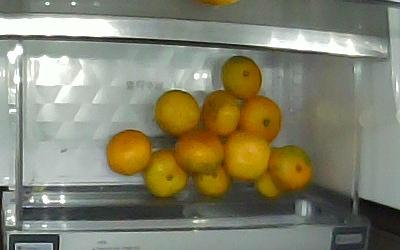tangerine: (225, 133, 272, 183), (175, 131, 225, 175), (106, 129, 151, 176), (144, 150, 188, 198), (155, 90, 200, 135), (271, 145, 315, 189), (220, 55, 264, 98), (242, 98, 282, 143), (201, 91, 240, 134), (197, 169, 229, 196), (256, 171, 283, 198)
